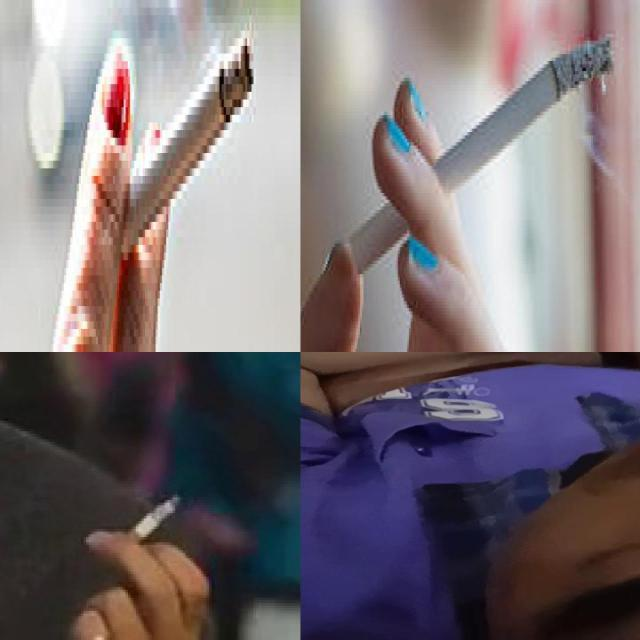smoking: (348, 34, 614, 276), (94, 24, 257, 279), (116, 494, 182, 553)
